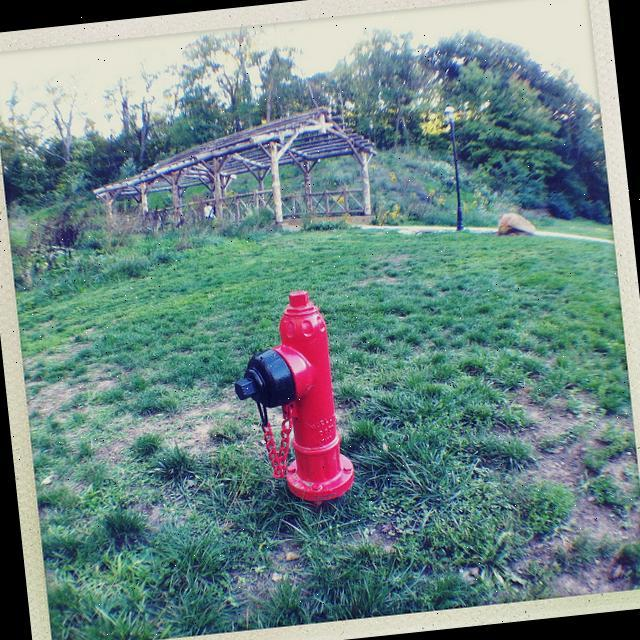fire_hydrant: (223, 286, 359, 512)
